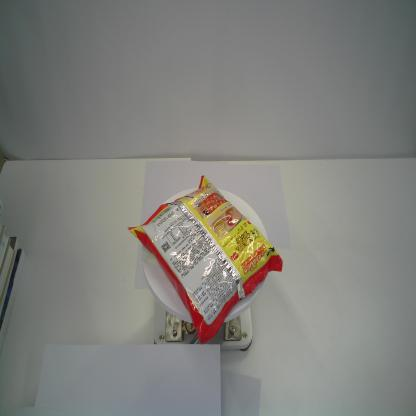Instant Noodles: (126, 173, 283, 348)
